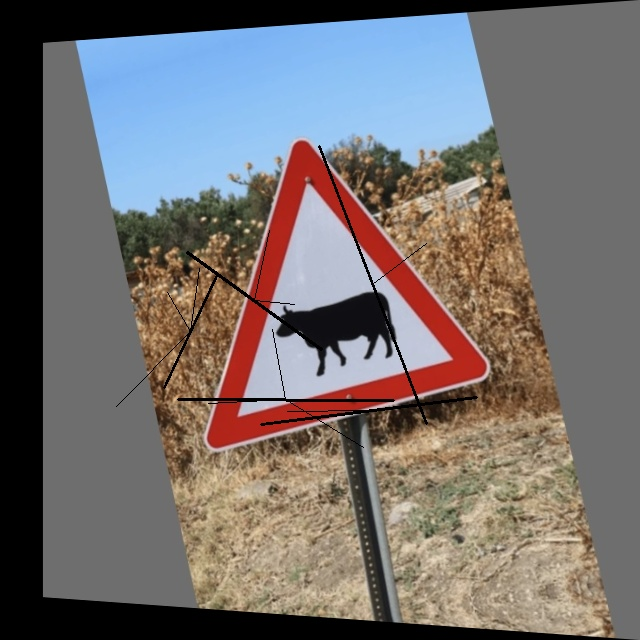Cattle: (161, 103, 500, 458)
